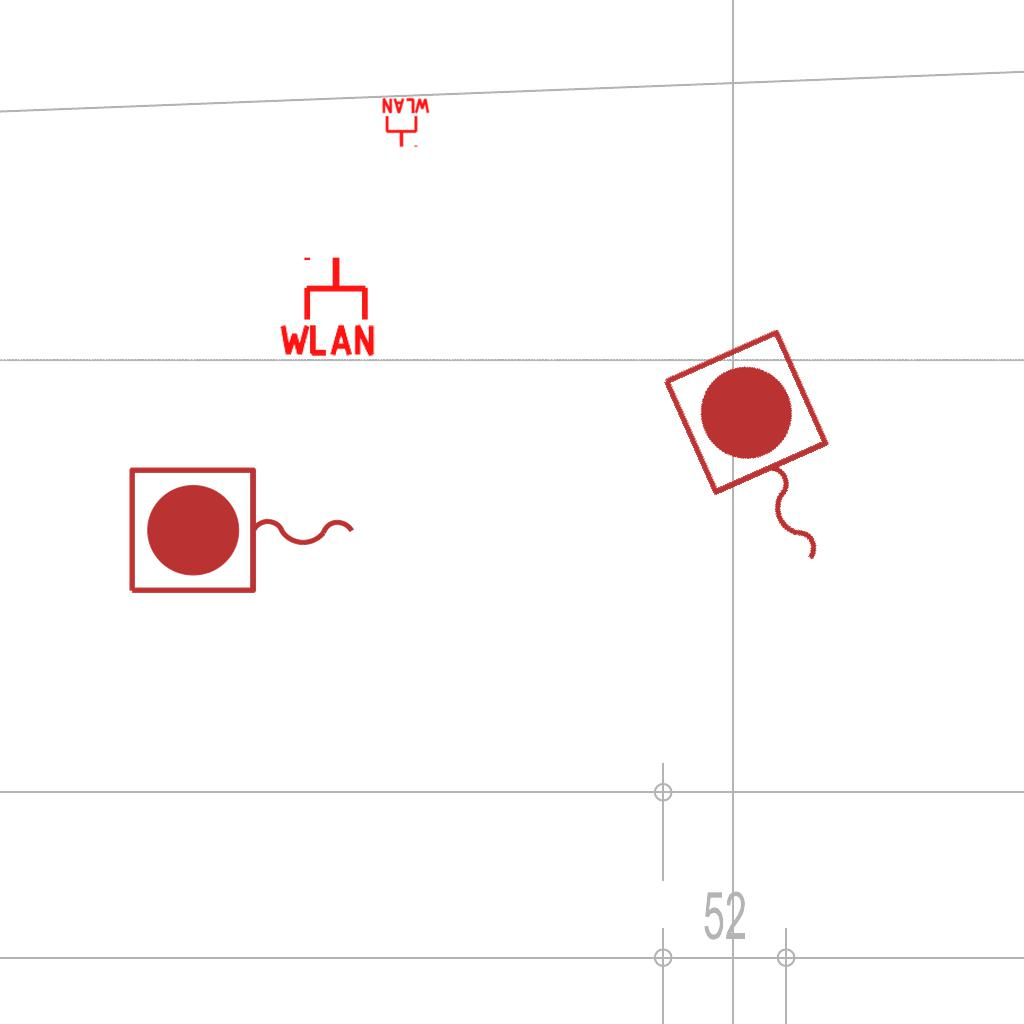WLAN: (275, 253, 379, 358), (380, 97, 432, 149)
Zugtaster: (649, 318, 881, 600), (121, 460, 365, 604)
